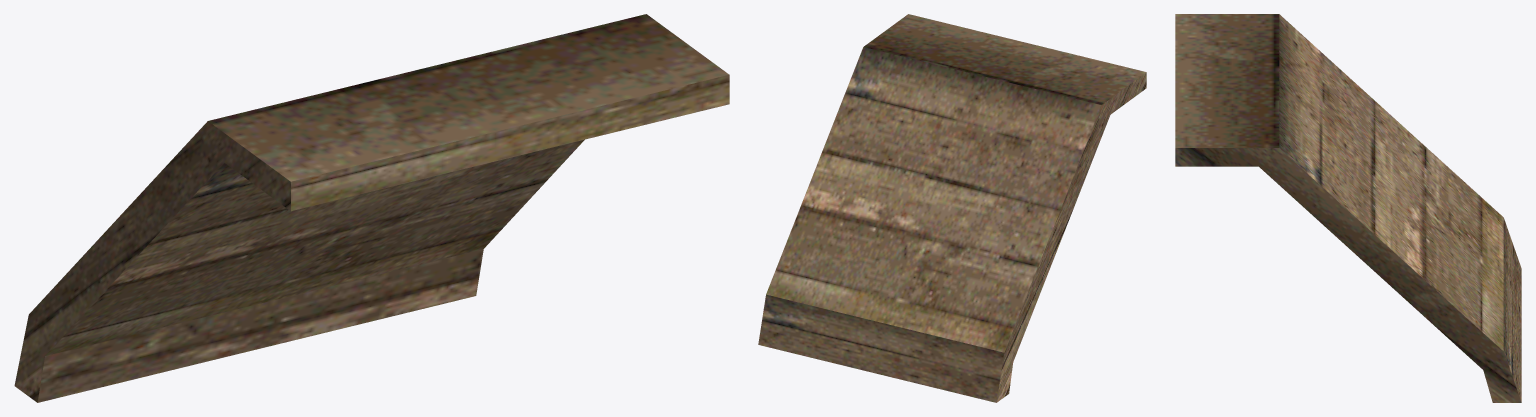
Rendered from Ceiling01.obj.
3 views of the same model, side by side, from view 1: azimuth 30°, elevation 25°; view 2: azimuth 150°, elevation 25°; view 3: azimuth 270°, elevation 25° (orthographic). The views are drawn at different scales.
Parts seen in each view (by area): view 1: Ceiling01_Cube.004; view 2: Ceiling01_Cube.004; view 3: Ceiling01_Cube.004.
Part boxes in pixels (x1,y1,x2,y2): Ceiling01_Cube.004: (14, 14, 729, 402); Ceiling01_Cube.004: (758, 14, 1146, 402); Ceiling01_Cube.004: (1175, 14, 1521, 402).
Bounding box in the file's own units: 4 × 3.54 × 4.36.
